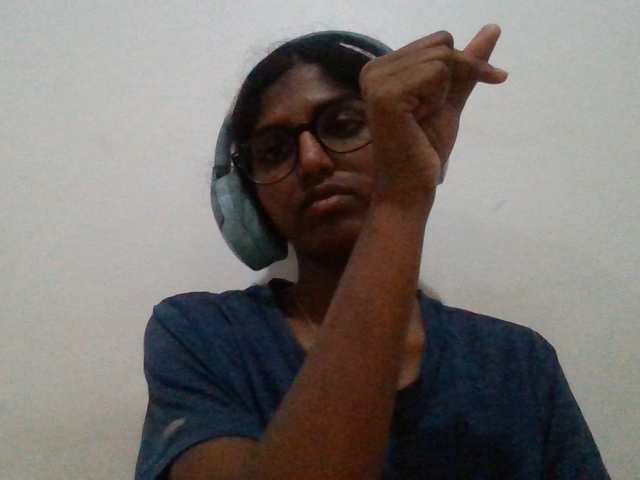G: (342, 12, 521, 229)
